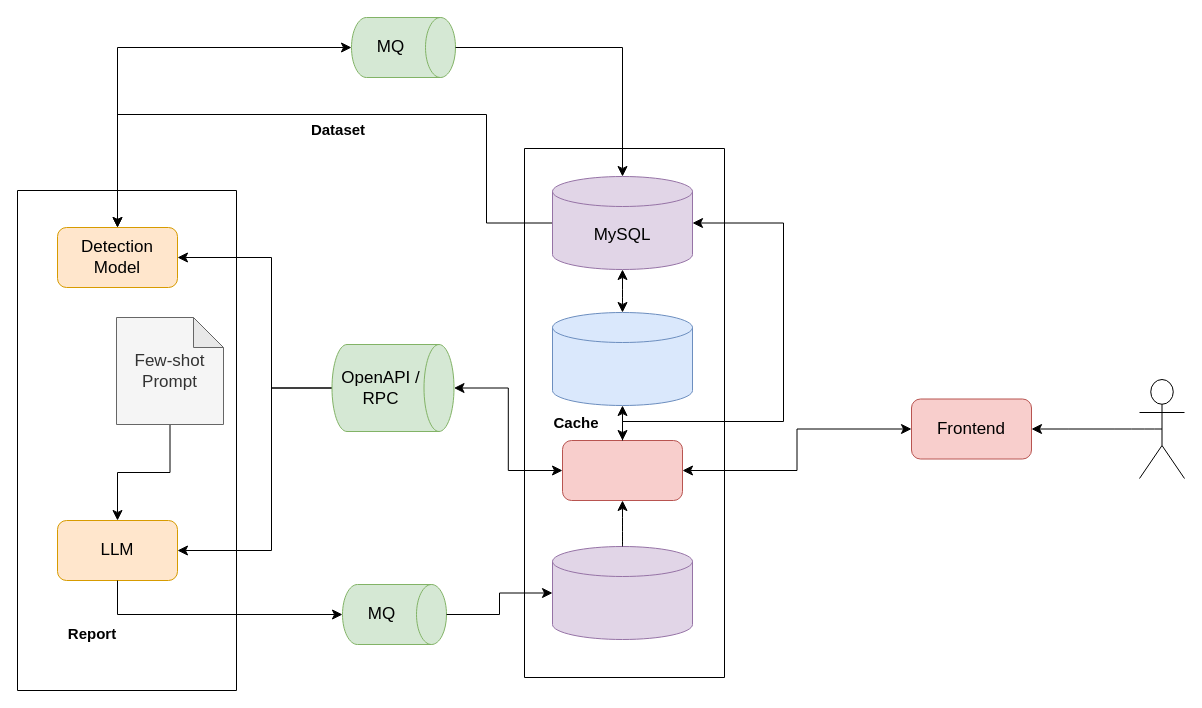
Some shapes in this 1202 by 708 pixel diagram are drawn without their labels. The shapes that lost their labels are listed below. From the top down, each one's centre as x and y in pixels, then its label:
the point at 622,359: Redis
the point at 1161,428: User
the point at 622,470: Backend
the point at 622,593: MongoDB
